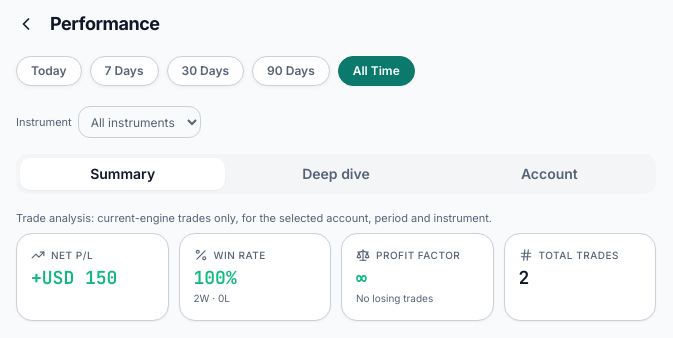
Test: JournalStats — scope labels & filter-reset (review) › resets an instrument filter that disappears after a period change (no hidden filter)
Select "GOLD" in the dropdown labelled "Instrument": (139, 122) left=78, top=106, right=201, bottom=138
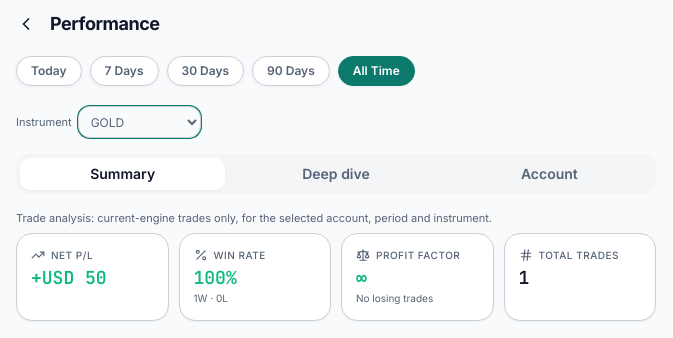
Check: the text "+USD 50" is shown, box left=31, top=266, right=107, bottom=288
// Switch to 7 days: GOLD (2020) drops out, so its filter must reset to All.
Click the button "7 Days": (124, 71) left=90, top=56, right=158, bottom=86
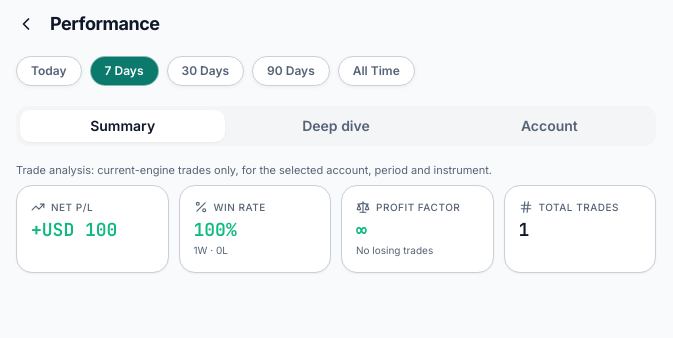
Check: the dropdown labelled "Instrument" is not shown
Check: the text "+USD 100" is shown, box left=31, top=218, right=117, bottom=240
Check: the text "+USD 50" is not shown
